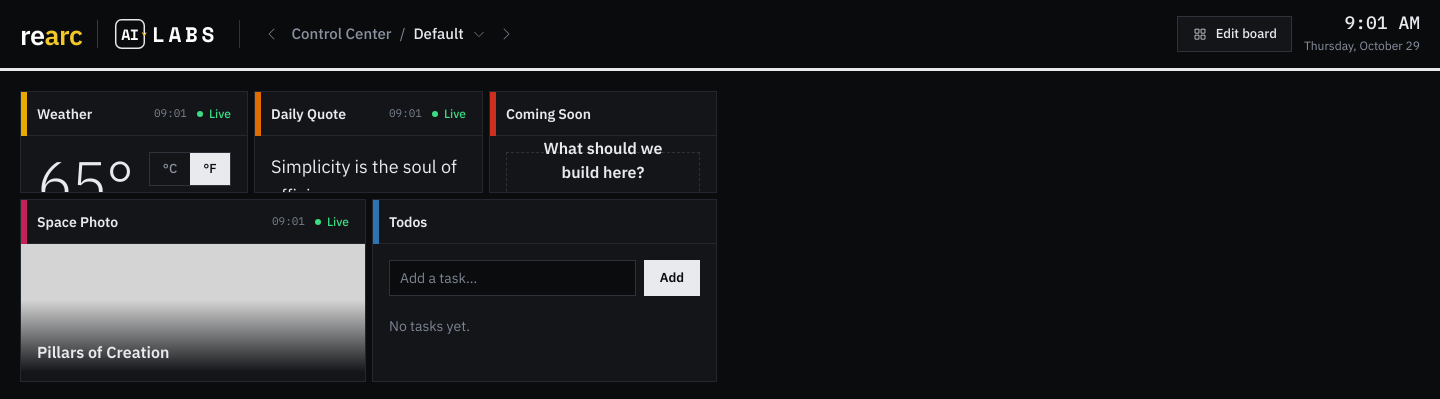
the whole board › switches the board from the profile menu
This screenshot has width=1440, height=399.
Click the button "Control Center / Default" at (389, 34), box [284, 16, 494, 52]
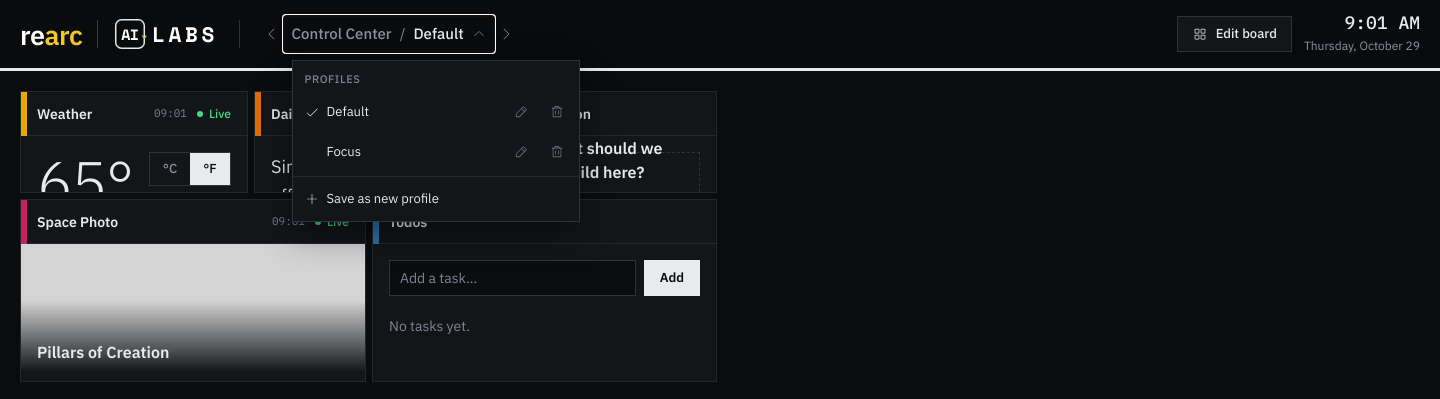
Click the button "Focus" at (400, 152), box [299, 136, 501, 168]
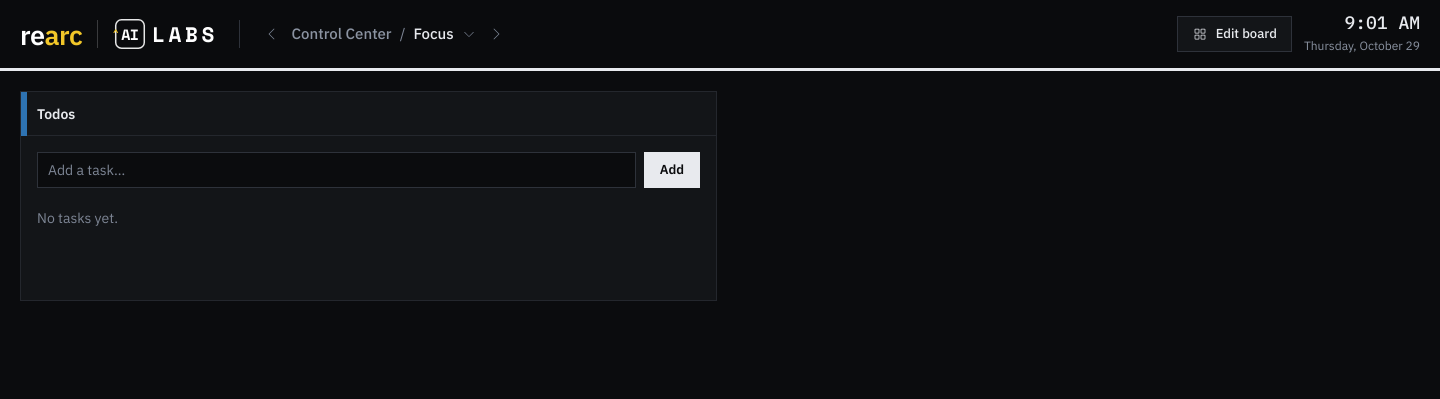
expect the headings read "Todos", in this order: met, box [37, 104, 75, 124]
